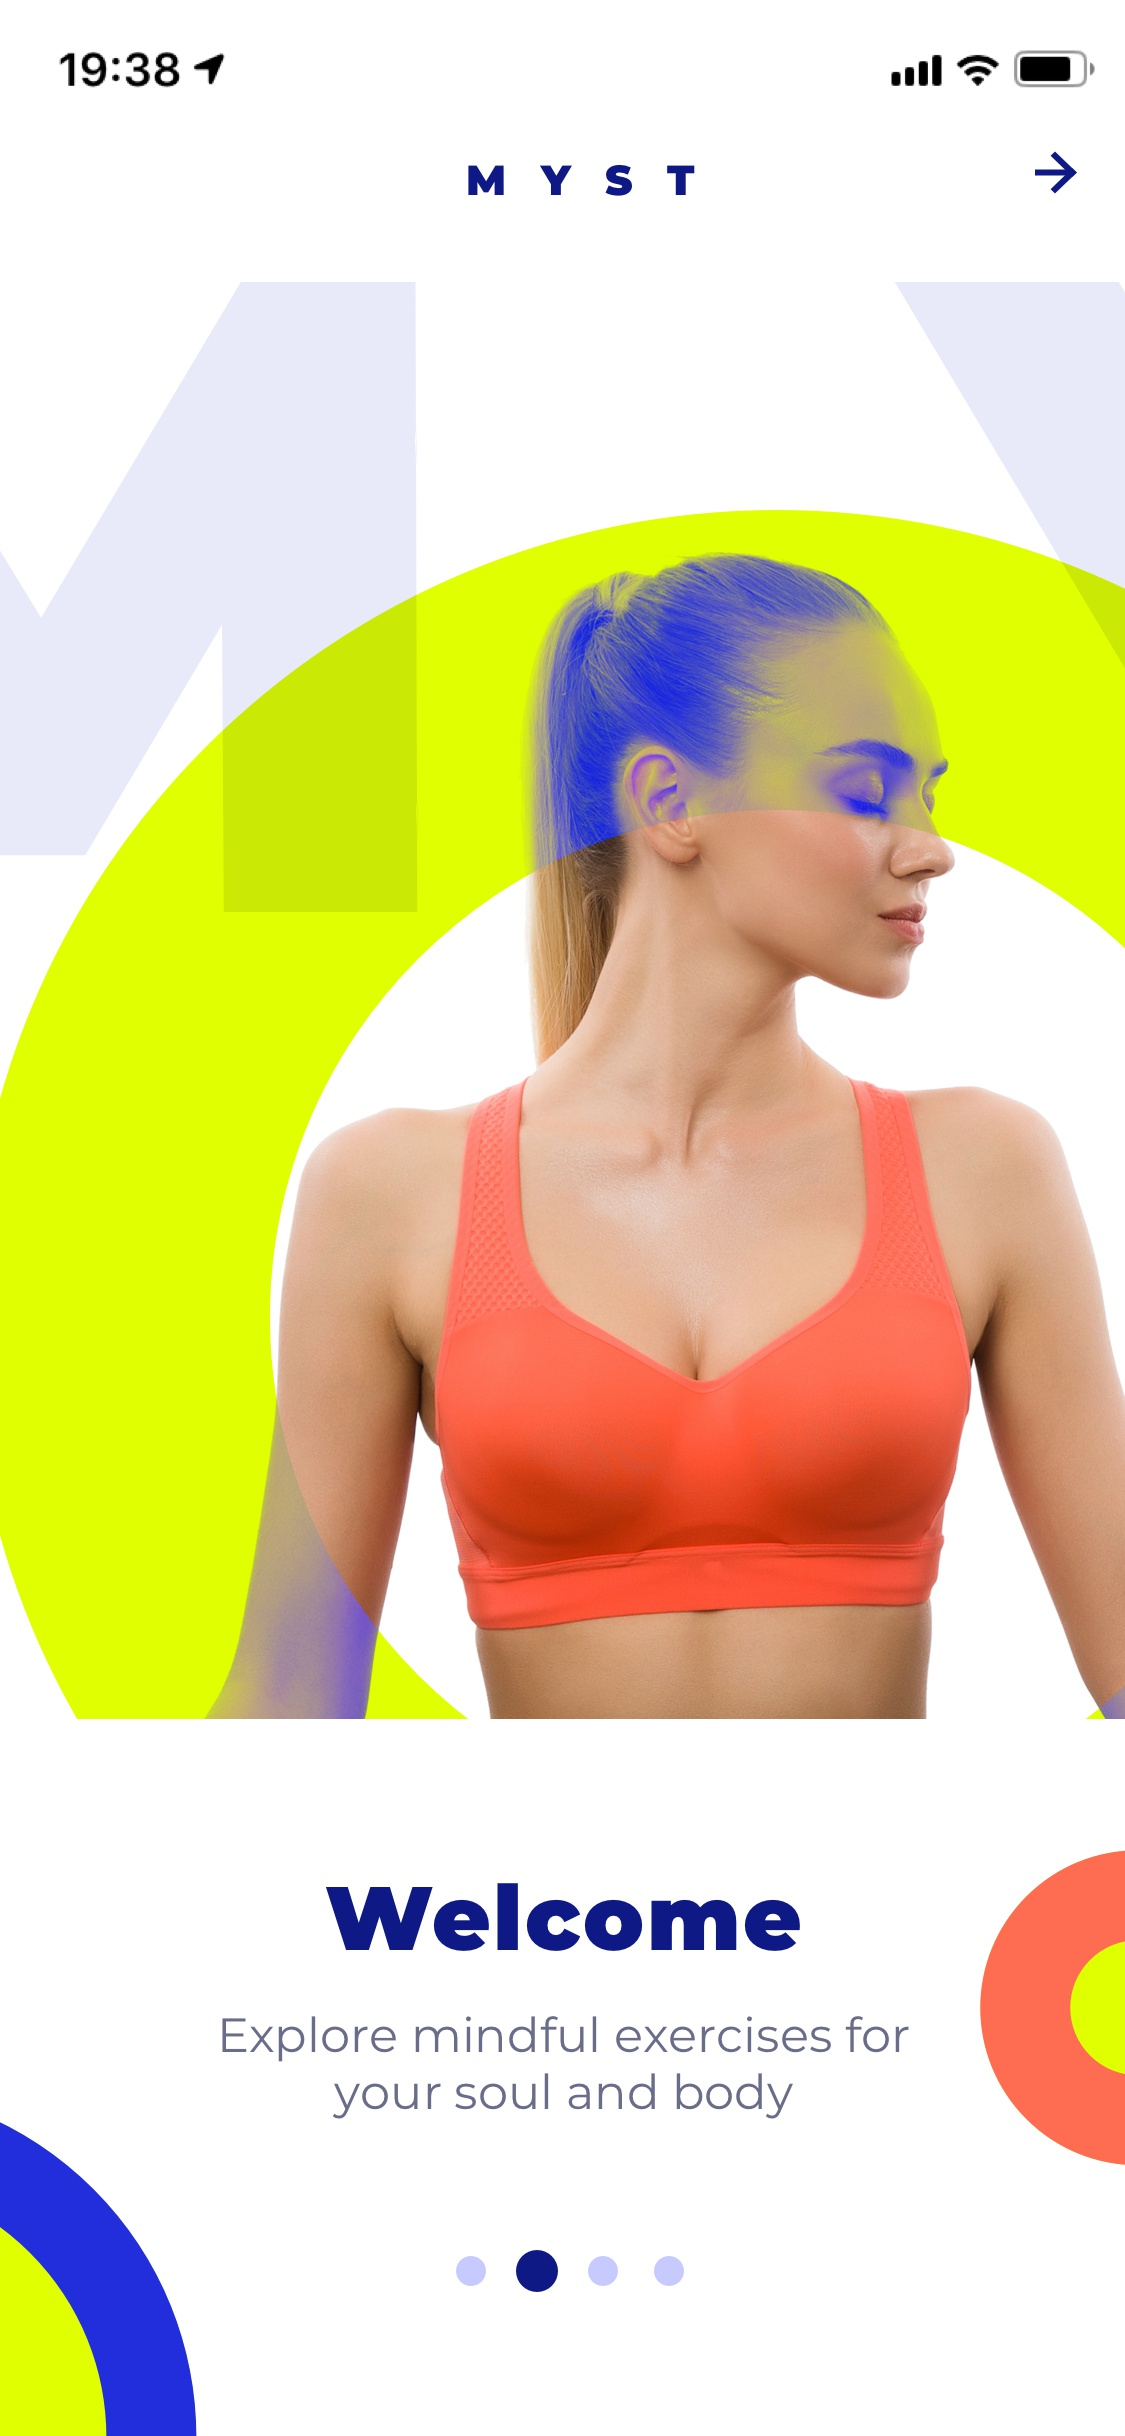Icon: (1033, 152, 1078, 196)
Image: (2, 283, 1125, 1718)
PageIndicator: (455, 2250, 685, 2293)
Text: (222, 2015, 911, 2121), (326, 1881, 800, 1951), (466, 162, 696, 197)
UpperTaskBar: (61, 50, 1097, 89)
